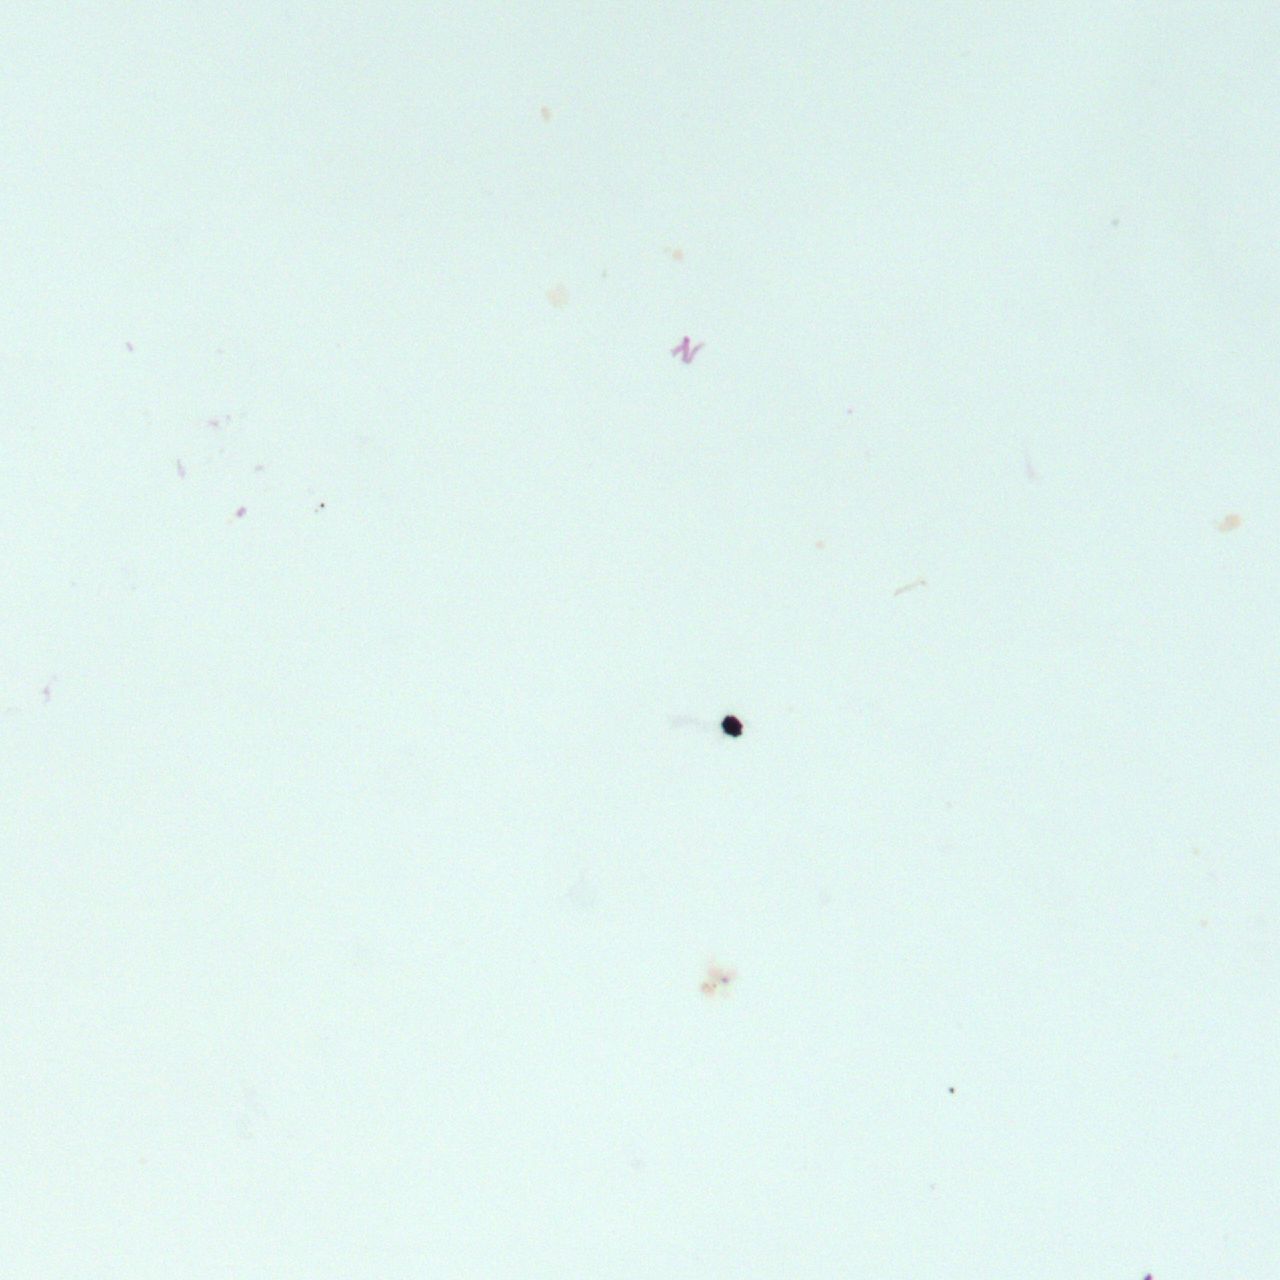dust: (716, 712, 744, 738)
